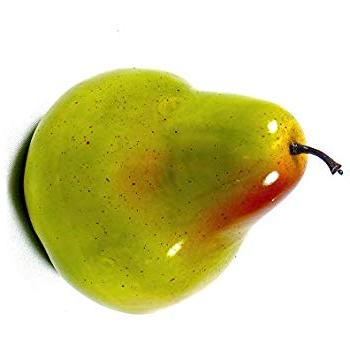pear: (0, 0, 350, 350)
